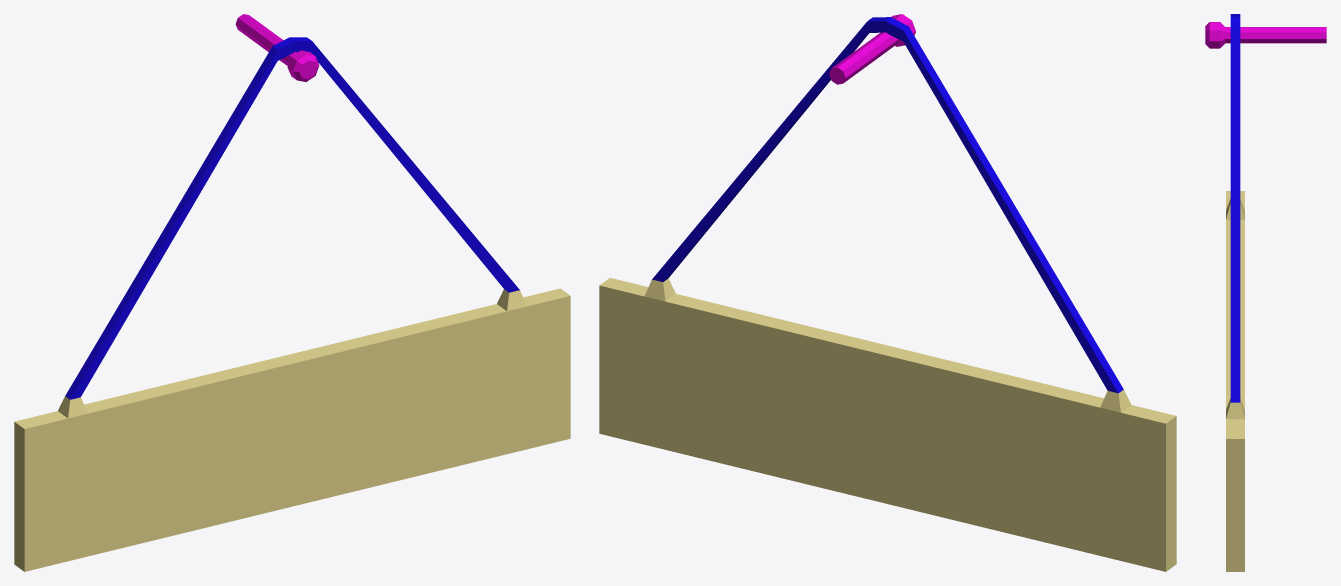
Rendered from insegna_latticini.fbx.
3 renders of one model, left to right at view 1: azimuth 30°, elevation 25°; view 2: azimuth 150°, elevation 25°; view 3: azimuth 270°, elevation 25°, orthographic. The views are drawn at different scales.
Parts seen in each view (by area): view 1: Latticini; view 2: Latticini; view 3: Latticini.
Part boxes in pixels (x1,y1,x2,y2): Latticini: (14,14,570,571); Latticini: (599,14,1176,571); Latticini: (1205,14,1326,571).
Size of the model in its own units: 600 by 486 by 124.
